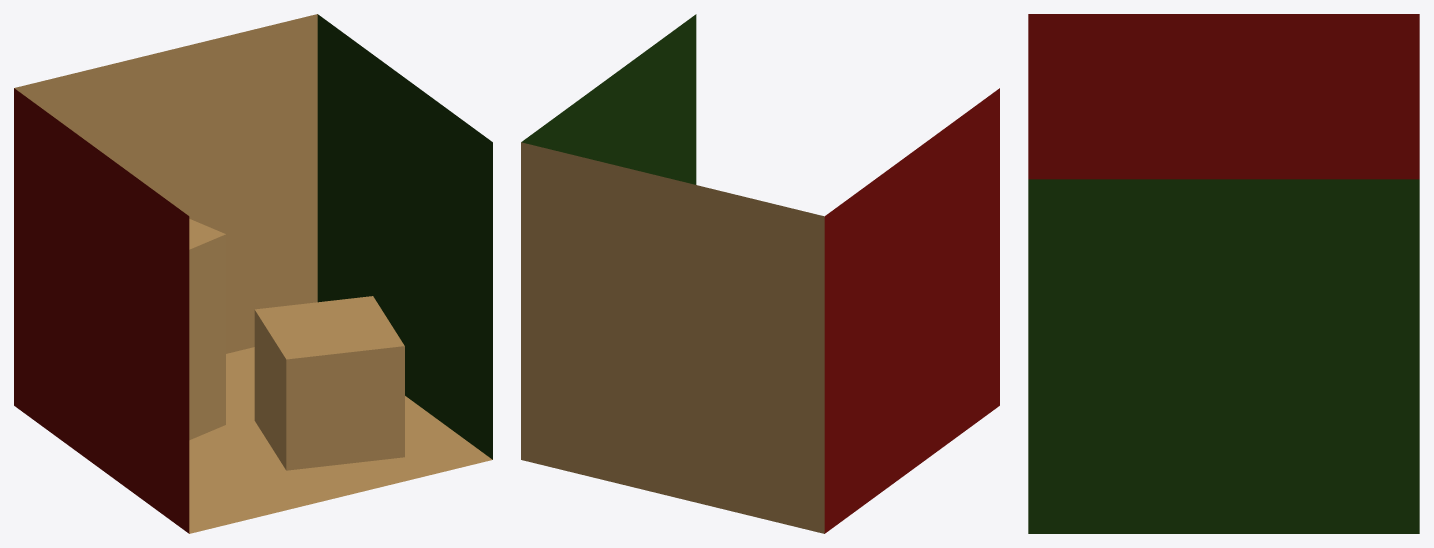
File: cornel-box.obj
The picture shows the model from 3 angles, left to right: view 1: azimuth 30°, elevation 25°; view 2: azimuth 150°, elevation 25°; view 3: azimuth 270°, elevation 25°; orthographic projection. The views are drawn at different scales.
Visible parts, largest first — view 1: left_Plane.002, right_Plane.003, back_Plane.004, Cube2_Cube.001, down_Plane, Cube1_Cube; view 2: back_Plane.004, left_Plane.002, right_Plane.003; view 3: right_Plane.003, left_Plane.002.
Boxes of the visible parts, x1,y1,x2,y2 form: left_Plane.002: [14, 88, 189, 533]; right_Plane.003: [317, 14, 492, 459]; back_Plane.004: [14, 14, 317, 353]; Cube2_Cube.001: [254, 296, 404, 470]; down_Plane: [189, 347, 492, 533]; Cube1_Cube: [189, 219, 225, 440]; back_Plane.004: [521, 142, 824, 533]; left_Plane.002: [824, 88, 999, 533]; right_Plane.003: [521, 14, 696, 184]; right_Plane.003: [1028, 179, 1419, 533]; left_Plane.002: [1028, 14, 1419, 179].
Bounding box in the file's own units: 2 × 2 × 2.
